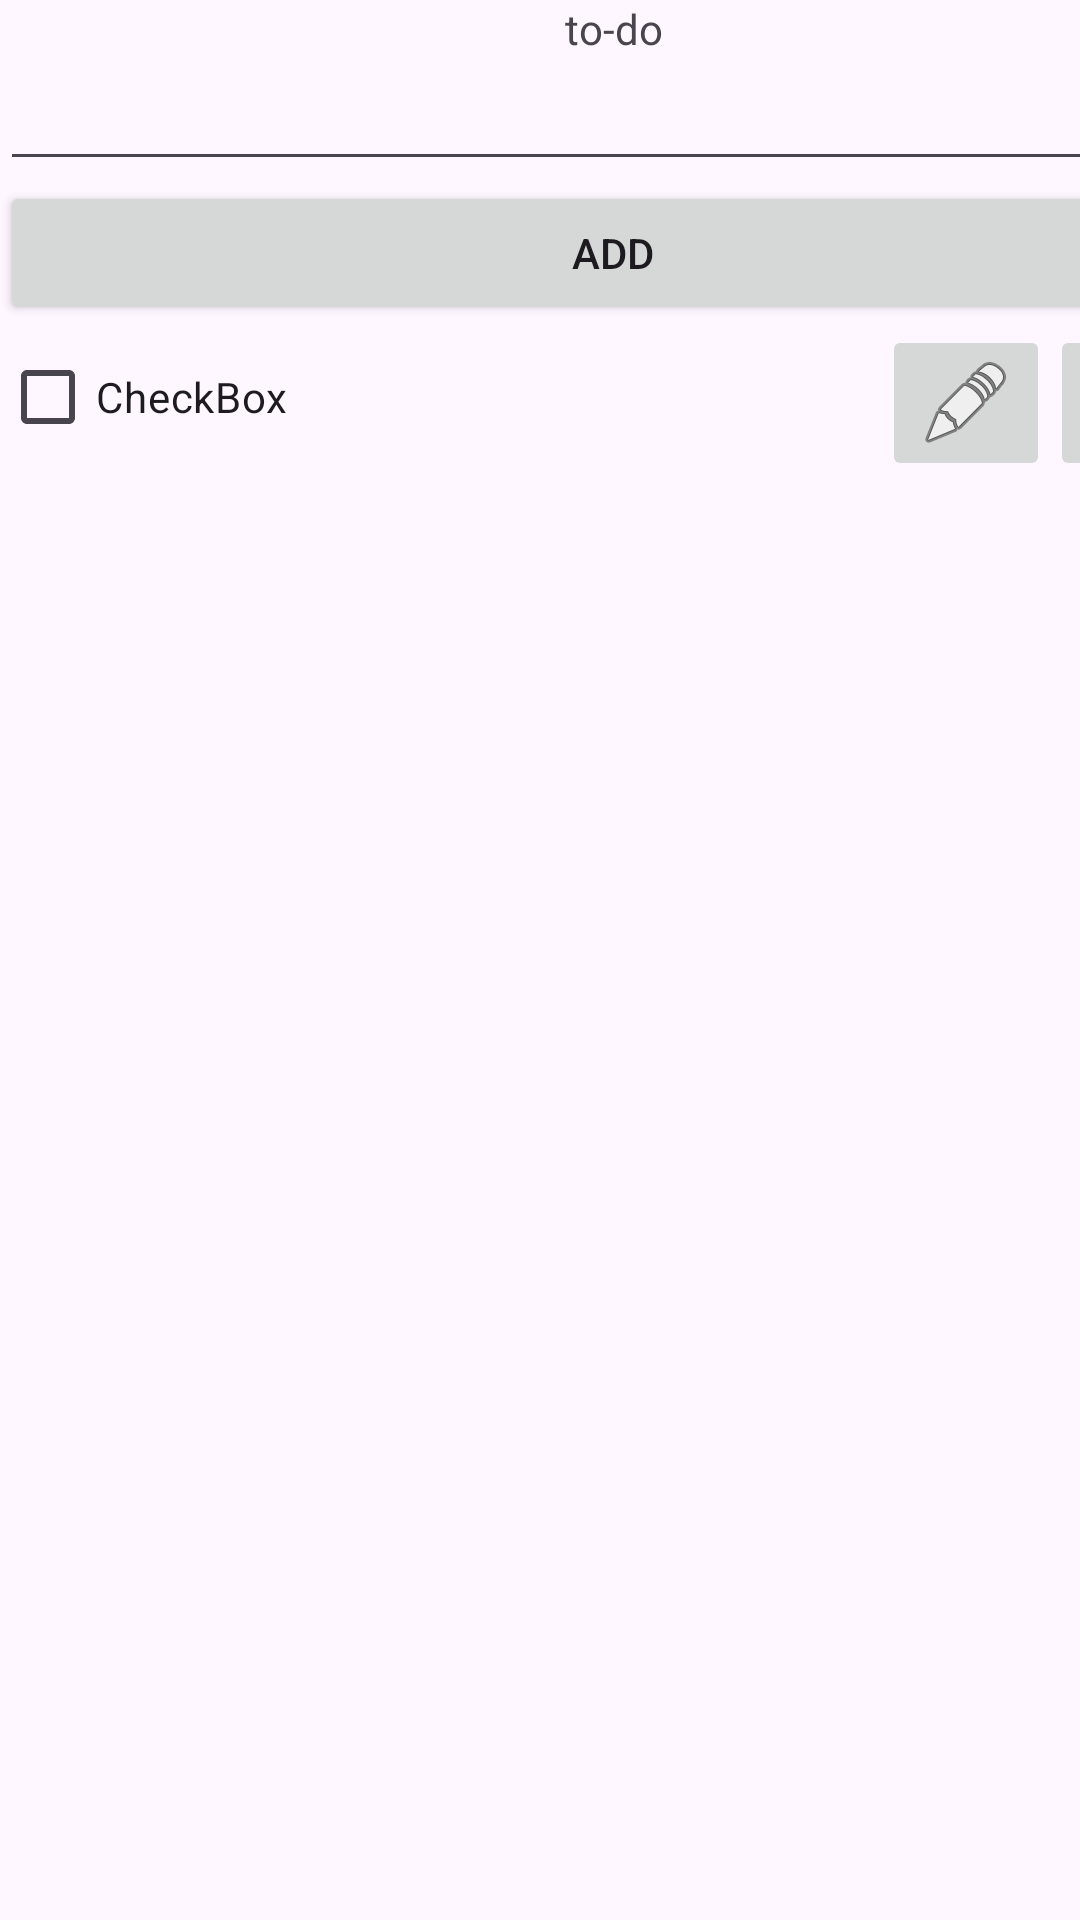

Icon click points for this 1080 × 1920 phone screenshot, format (x=x, y=y):
edit: (x=966, y=403)
